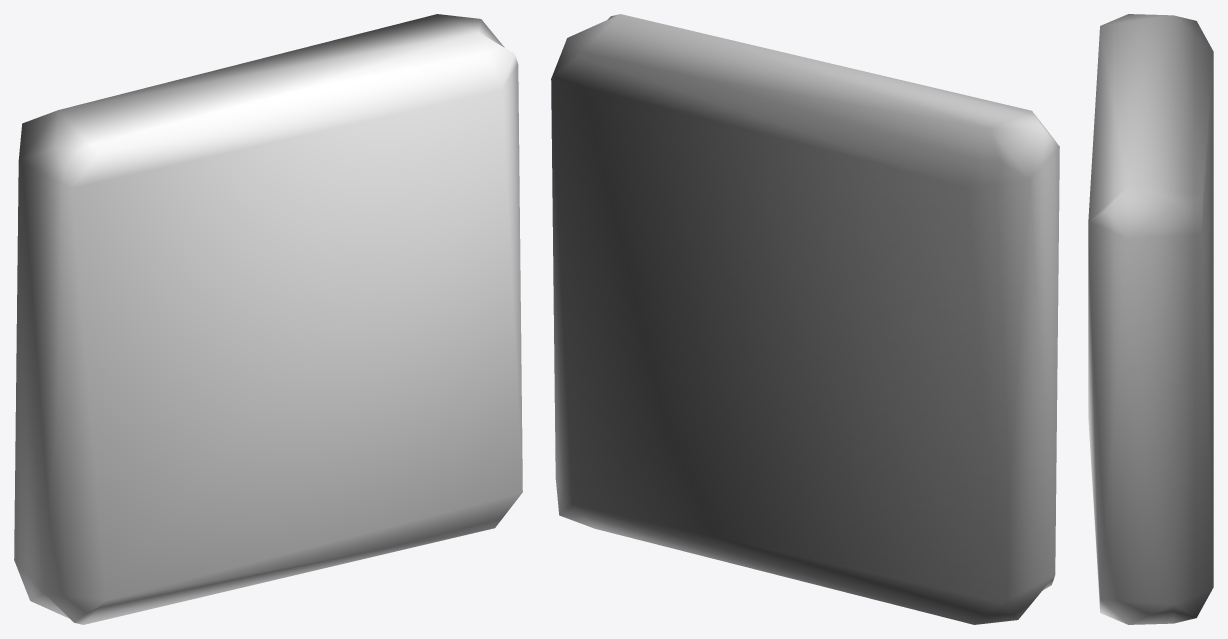
The model's file is cloud.obj.
The picture shows the model from 3 angles, left to right: view 1: azimuth 30°, elevation 25°; view 2: azimuth 150°, elevation 25°; view 3: azimuth 270°, elevation 25°; orthographic projection. The views are drawn at different scales.
Visible parts, largest first — view 1: Cube; view 2: Cube; view 3: Cube.
Part boxes in pixels (box(x1,y1,x2,y2)): Cube: box(14, 14, 522, 624); Cube: box(551, 14, 1059, 624); Cube: box(1088, 14, 1213, 624).
Size of the model in its own units: 2 by 2 by 0.5187.
